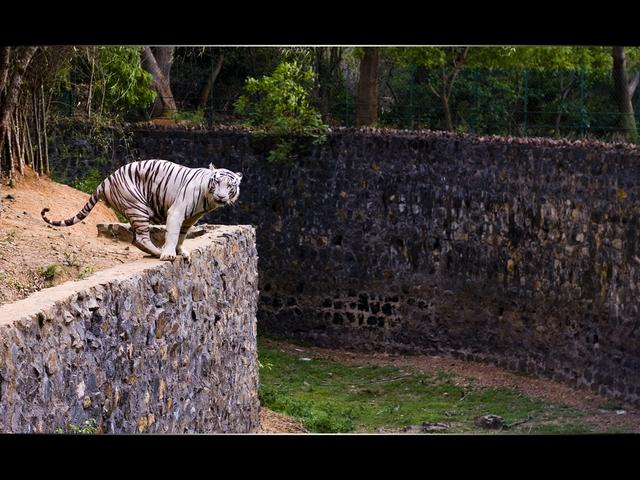tiger: (32, 121, 285, 295)
